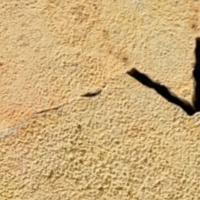crack: (17, 32, 199, 137)
